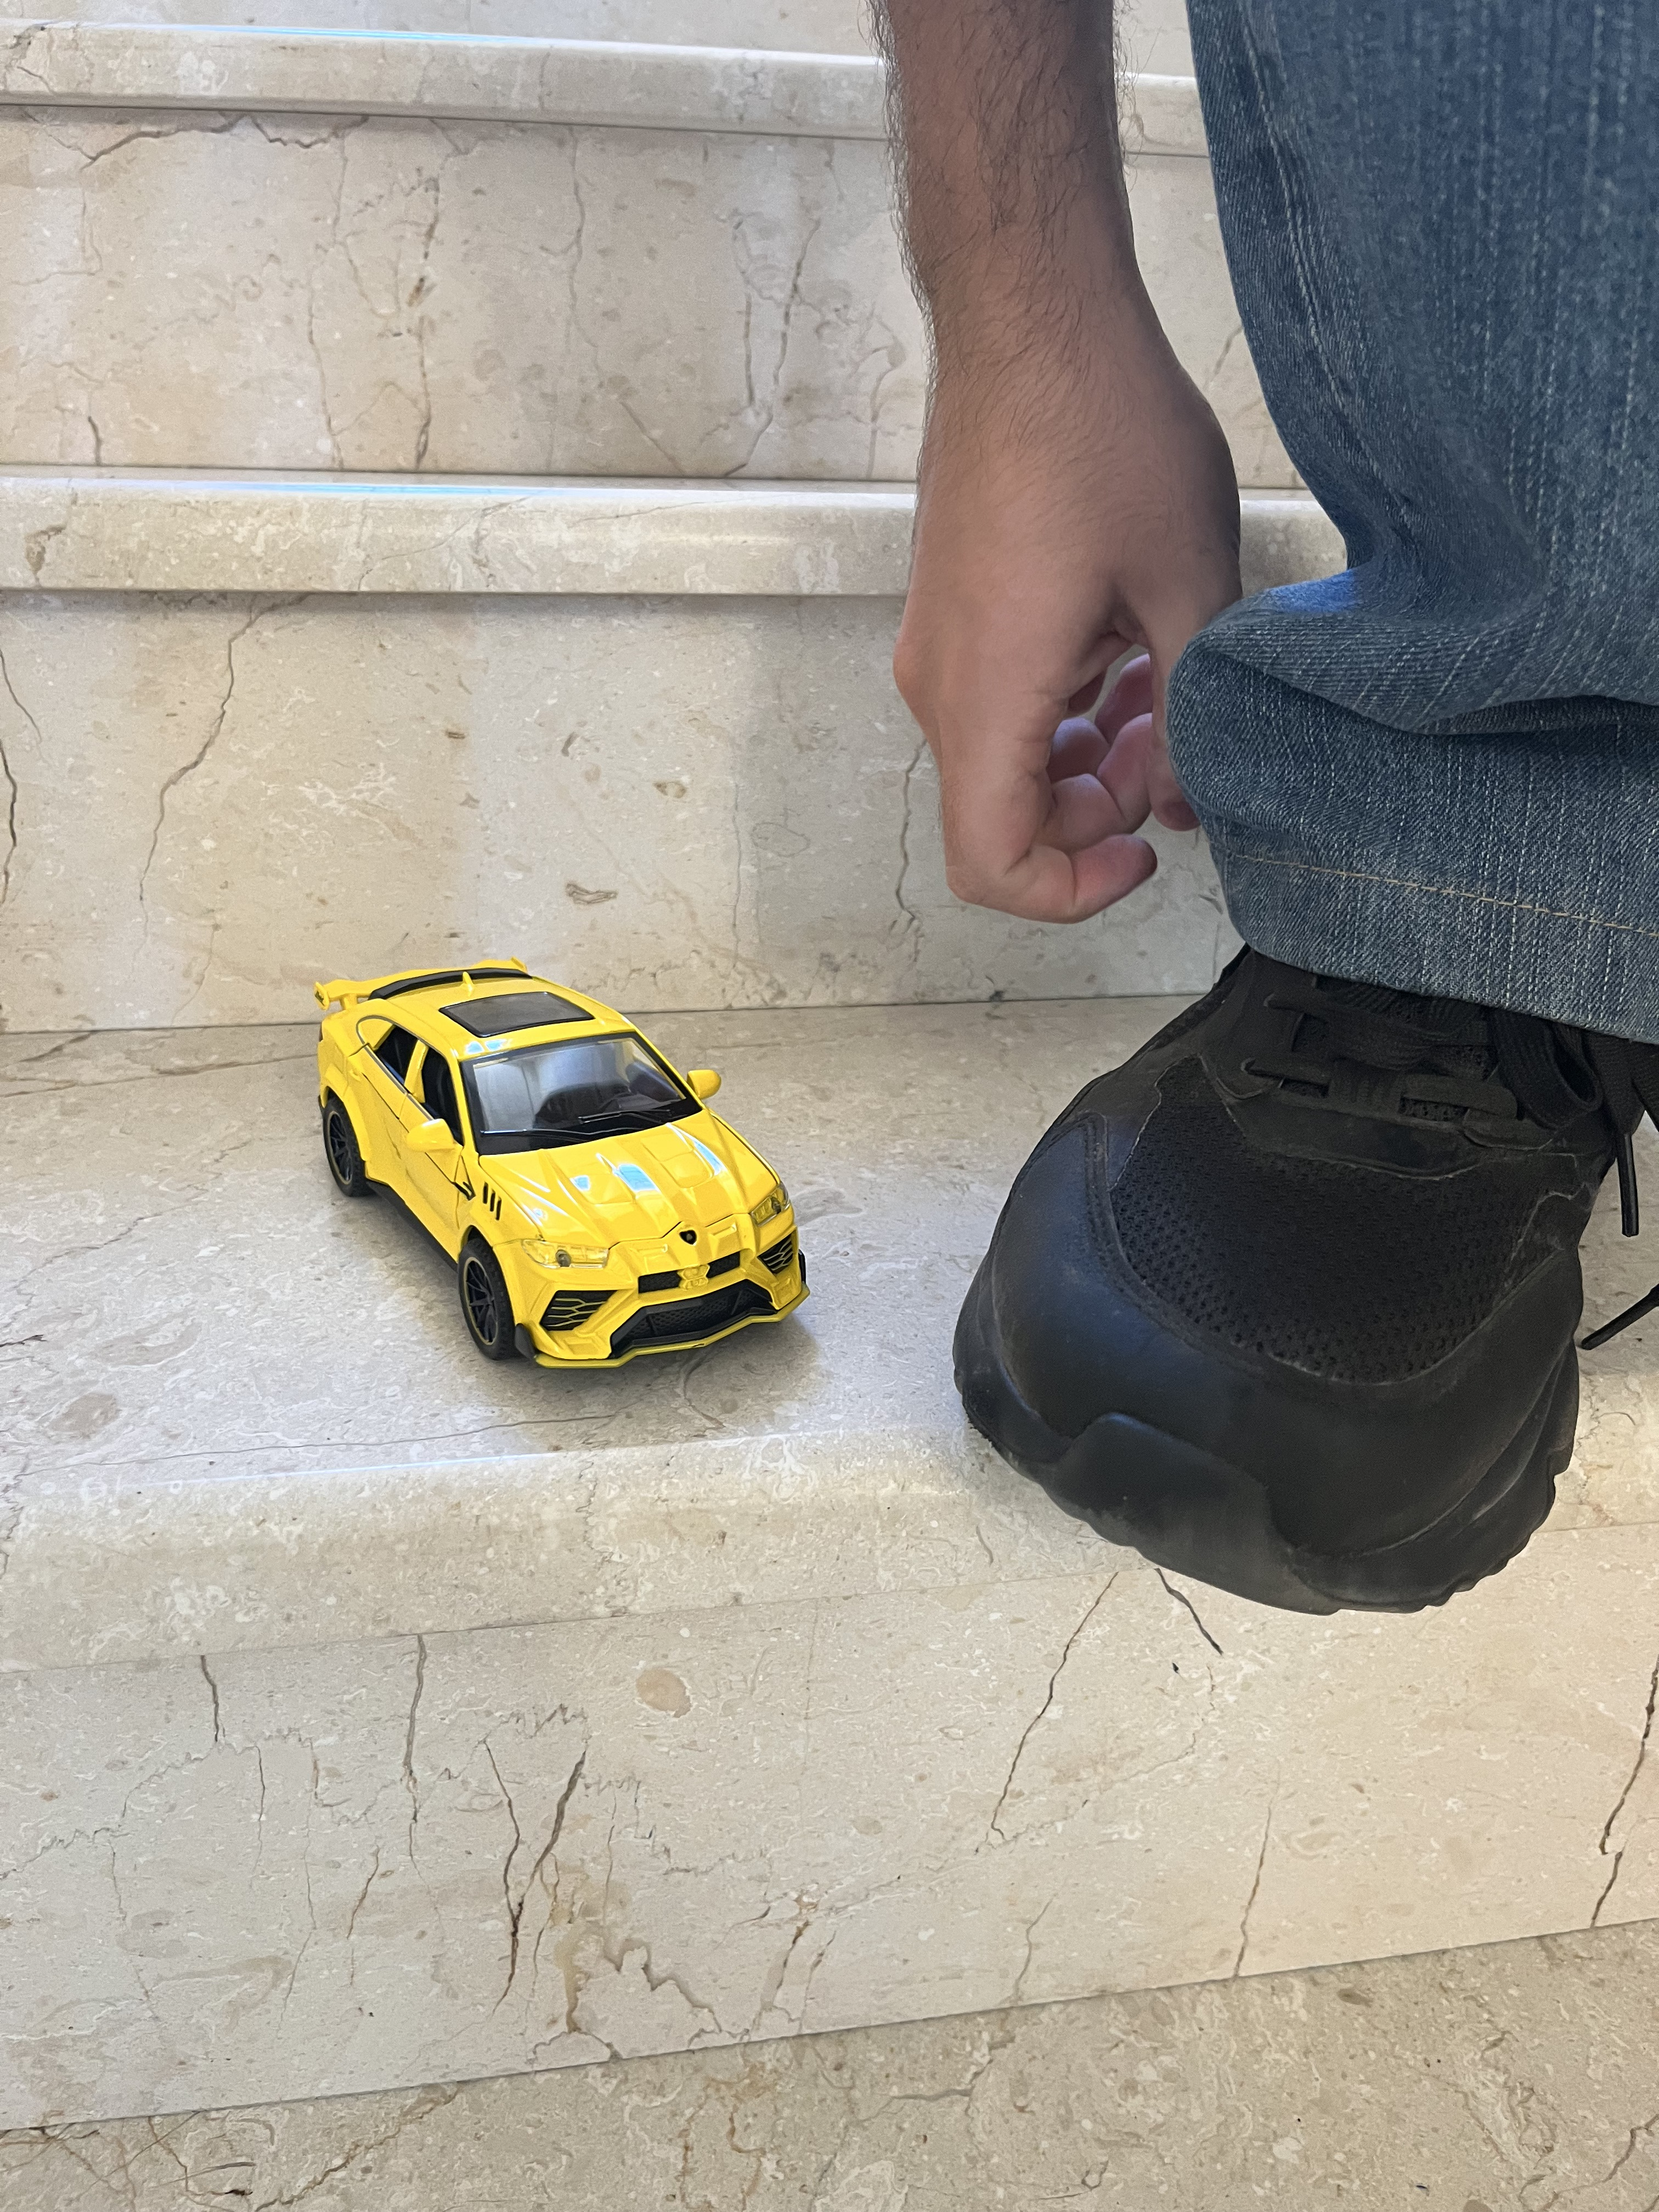lambo: (314, 961, 810, 1374)
